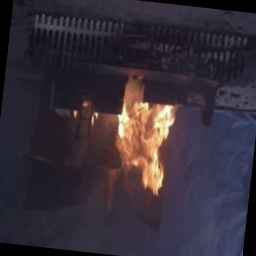fire: (105, 91, 182, 204)
